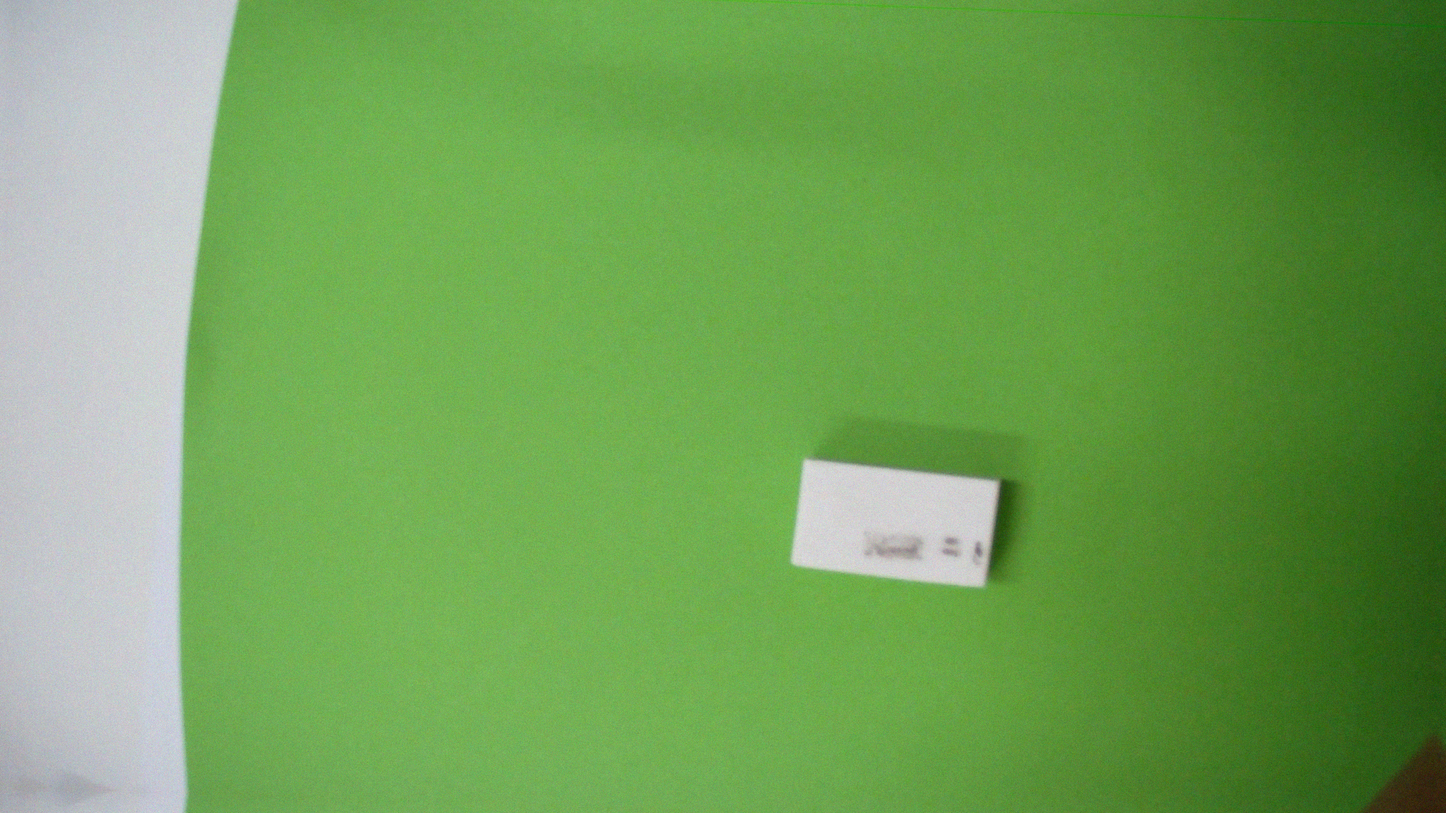gom: (789, 447, 1004, 600)
